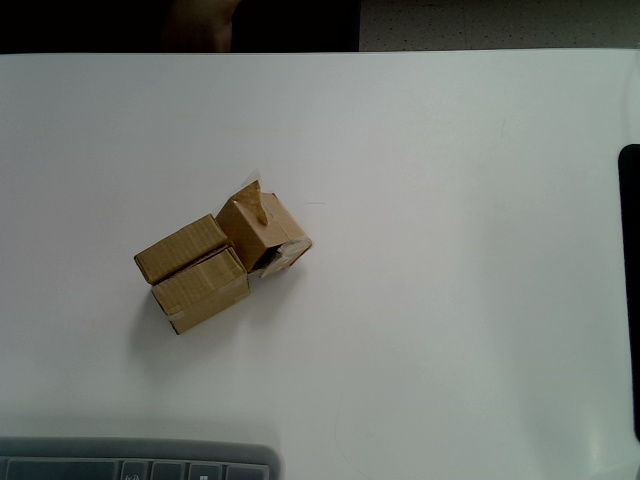defect: (214, 177, 312, 278)
normal: (152, 247, 251, 336), (134, 213, 228, 284)
